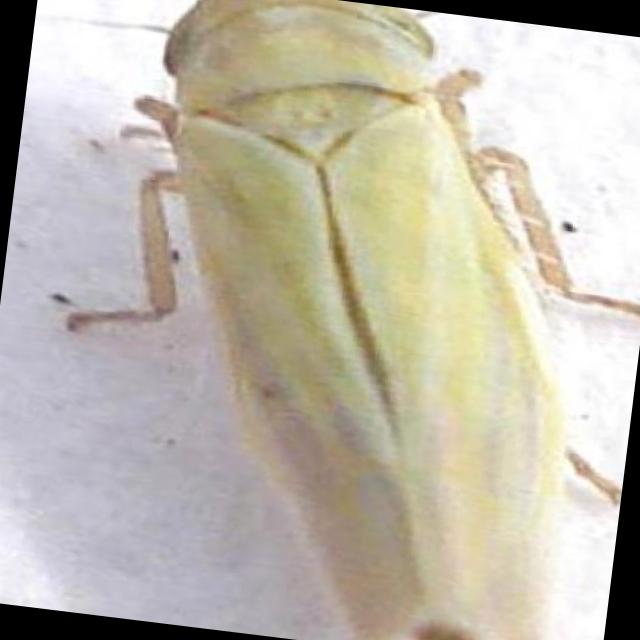green-leafhopper: (104, 0, 609, 640)
